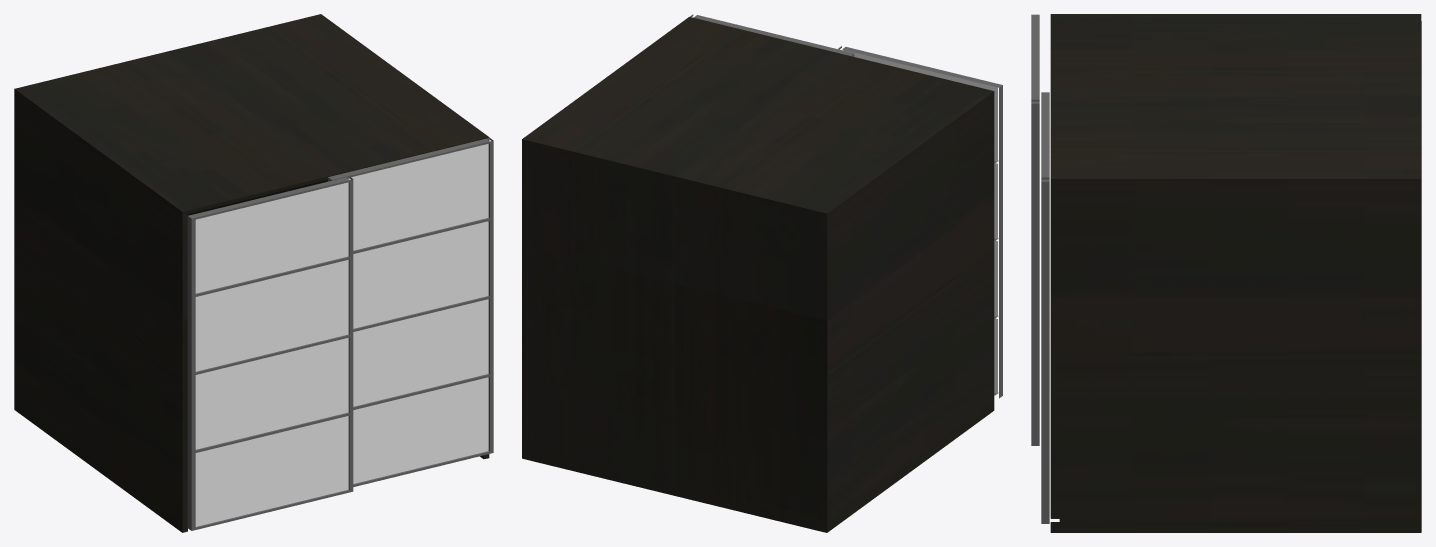
Rendered from sh-bs0-wardrobe-with-sliding-doors.glb.
The picture shows the model from 3 angles, left to right: view 1: azimuth 30°, elevation 25°; view 2: azimuth 150°, elevation 25°; view 3: azimuth 270°, elevation 25°; orthographic projection. The views are drawn at different scales.
Visible parts, largest first — view 1: Box_Plane, Door.001_Plane.006; view 2: Box_Plane, Door.001_Plane.006; view 3: Box_Plane, Door.001_Plane.006.
Boxes of the visible parts, <box> form: Box_Plane: <box>14,14,489,532</box>; Door.001_Plane.006: <box>187,137,493,530</box>; Box_Plane: <box>522,17,994,532</box>; Door.001_Plane.006: <box>690,14,1002,398</box>; Box_Plane: <box>1050,14,1421,532</box>; Door.001_Plane.006: <box>1031,14,1049,523</box>.
Size of the model in its own units: 1 by 1 by 1.
3 materials, 1 textured.
